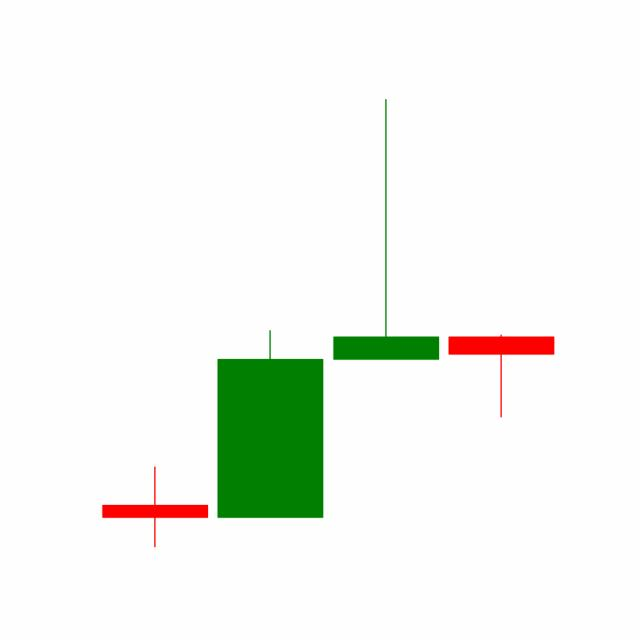Hammer: (443, 333, 559, 418)
